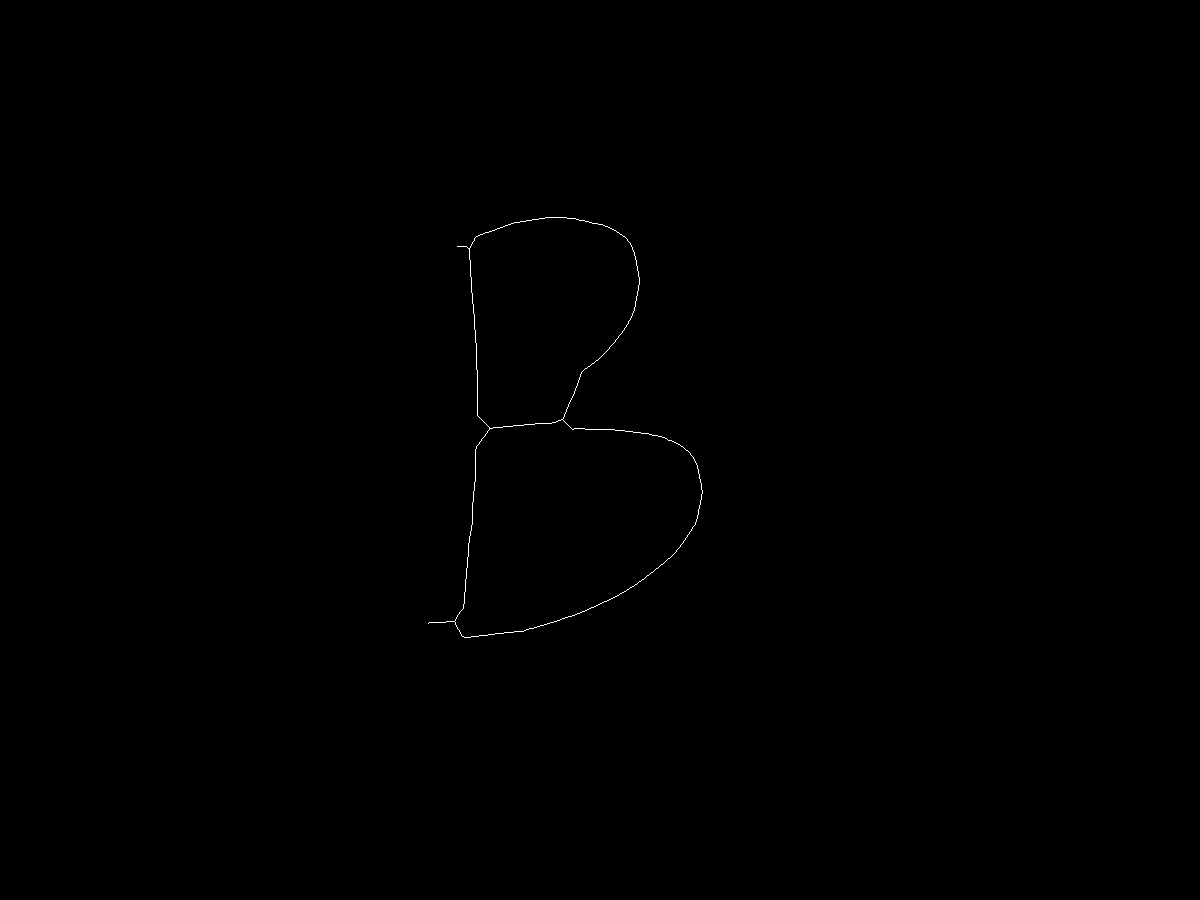dian1: (467, 238, 482, 253)
dian2: (474, 420, 497, 443)
dian3: (451, 613, 465, 627)
dian4: (555, 412, 571, 428)
